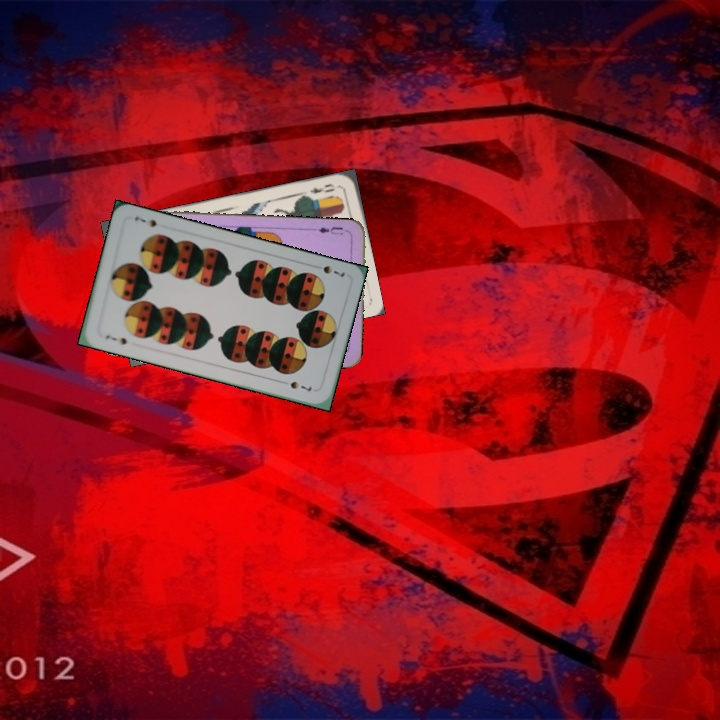EO: (306, 179, 337, 196)
EU: (311, 223, 351, 237)
S7: (319, 261, 348, 279), (101, 331, 130, 347)
